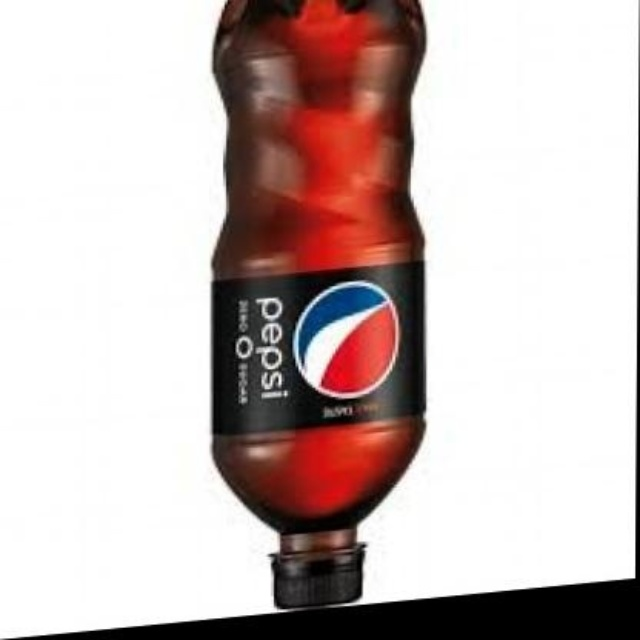trash: (212, 0, 423, 606)
